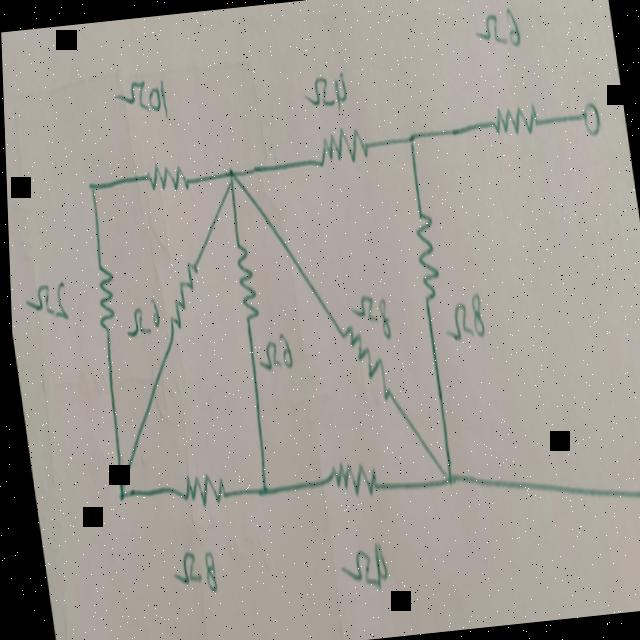junction: (219, 150, 241, 194), (249, 472, 273, 504), (401, 120, 420, 158), (435, 457, 455, 492), (111, 481, 124, 508), (85, 175, 97, 198)
resistor: (158, 254, 206, 340), (338, 320, 386, 402), (407, 202, 442, 306), (230, 232, 260, 326), (324, 452, 377, 499), (89, 258, 119, 336), (314, 124, 370, 164), (177, 467, 224, 510), (491, 98, 541, 137), (142, 157, 187, 197)
terminal: (578, 96, 604, 138), (632, 475, 640, 515)
text: (332, 534, 386, 594), (164, 540, 215, 596), (435, 287, 485, 343), (345, 285, 390, 341), (471, 2, 522, 51), (20, 275, 69, 325), (300, 64, 349, 112), (118, 292, 161, 342), (123, 72, 169, 115), (251, 331, 291, 372)
